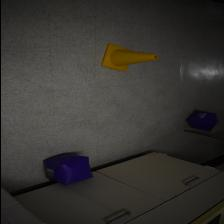cone: (100, 43, 158, 72)
cube: (42, 154, 92, 186), (185, 110, 218, 132)
